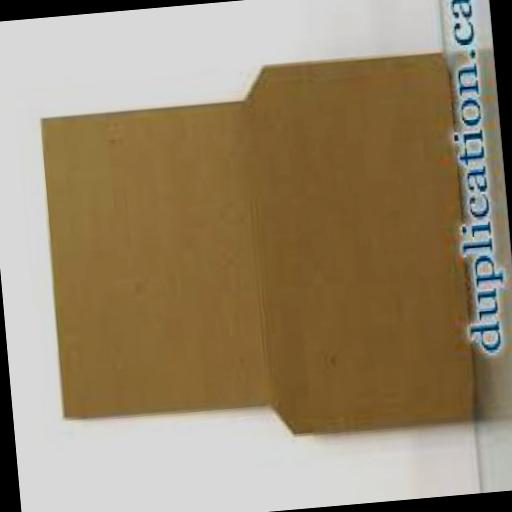cardboard: (34, 52, 480, 462)
